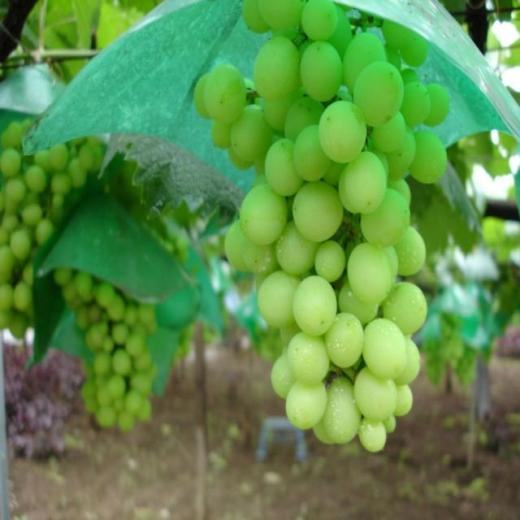Orange: (194, 0, 450, 453), (0, 118, 102, 338), (54, 268, 159, 432)
